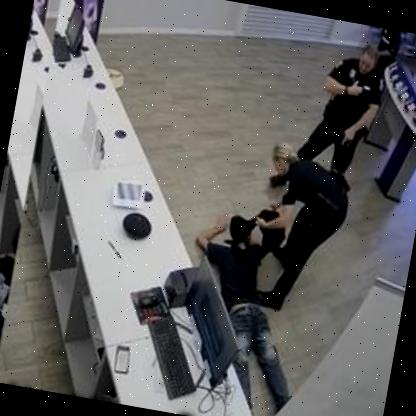person: (171, 201, 336, 416), (244, 132, 364, 320), (302, 34, 394, 176)
